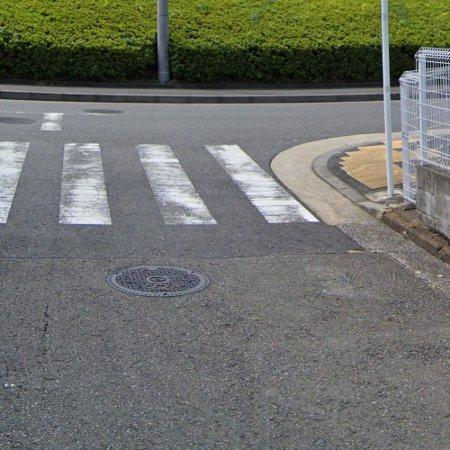crosswalks: (0, 138, 323, 226)
